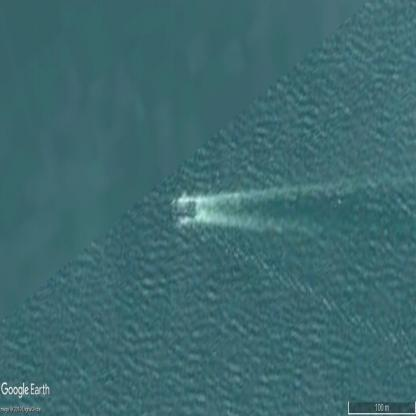ship: (169, 200, 198, 222)
